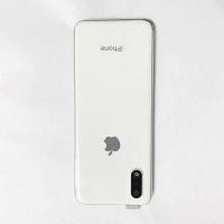phone: (69, 15, 160, 210)
